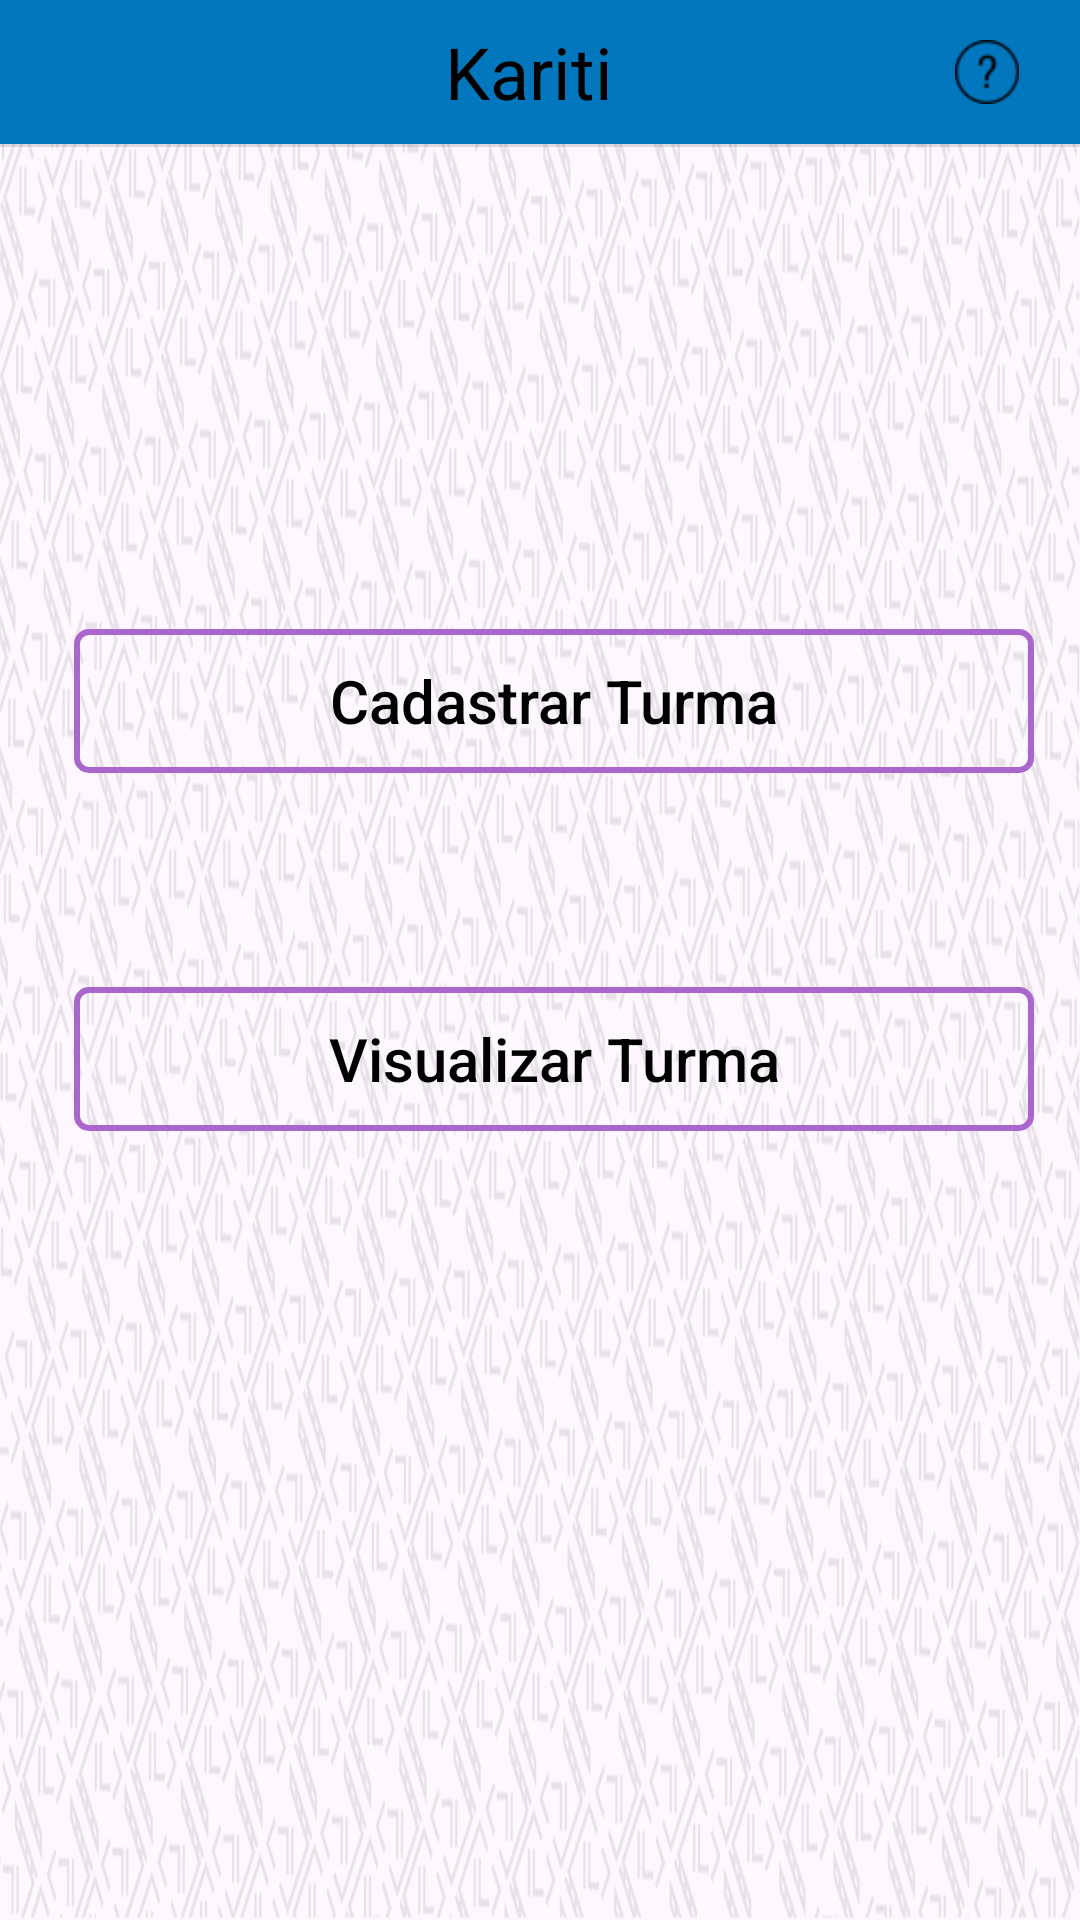

Where icons sit on this 1080 × 1920 app screen, as (x1, y1, x2, y2):
Ajuda: (955, 40, 1019, 104)
